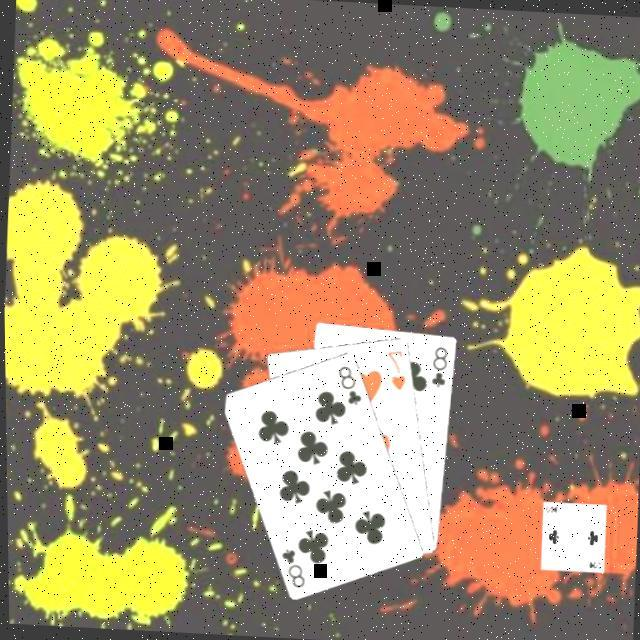7H: (384, 348, 412, 396)
8C: (334, 363, 367, 410), (277, 545, 310, 592), (428, 344, 452, 392)
